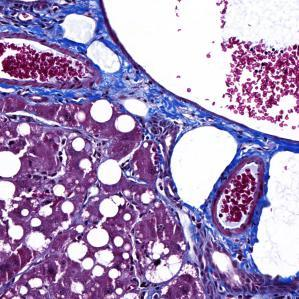fibrosis: (90, 66, 192, 125), (3, 3, 110, 46)
